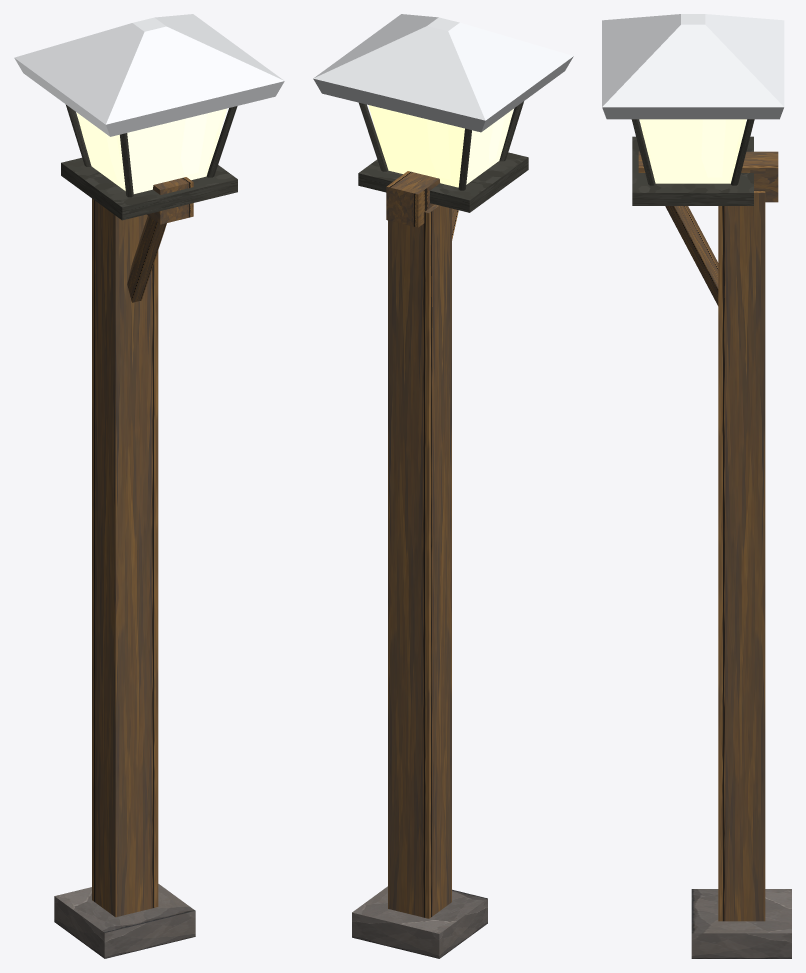
The model's file is timber_lantern.glb.
The picture shows the model from 3 angles, left to right: view 1: azimuth 30°, elevation 25°; view 2: azimuth 150°, elevation 25°; view 3: azimuth 270°, elevation 25°; orthographic projection. The views are drawn at different scales.
Parts seen in each view (by area): view 1: winter_timber_lantern; view 2: winter_timber_lantern; view 3: winter_timber_lantern.
Boxes of the visible parts, x1,y1,x2,y2 form: winter_timber_lantern: [14, 14, 284, 958]; winter_timber_lantern: [313, 14, 573, 958]; winter_timber_lantern: [602, 14, 791, 958].
Bounding box in the file's own units: 0.65 × 3.2 × 0.6.
Materials: 4 (3 with a texture image).
